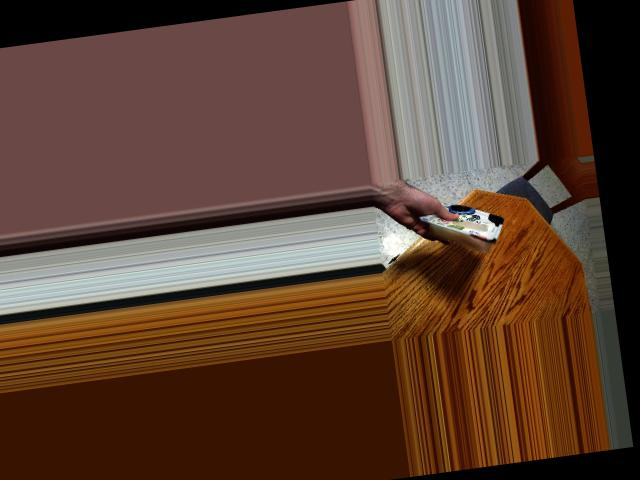cheese: (429, 186, 503, 258)
